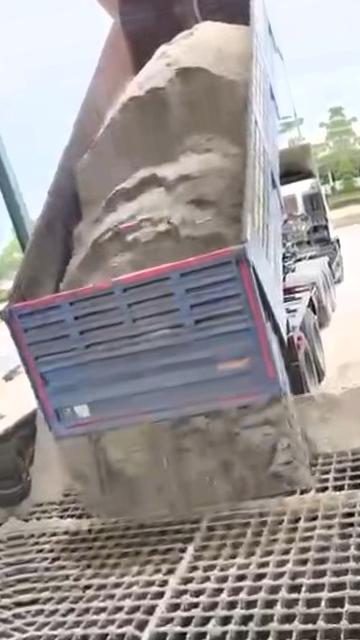sand: (62, 22, 251, 289), (62, 399, 310, 519), (13, 490, 360, 532), (101, 523, 204, 640), (297, 378, 360, 452), (30, 412, 70, 502)
